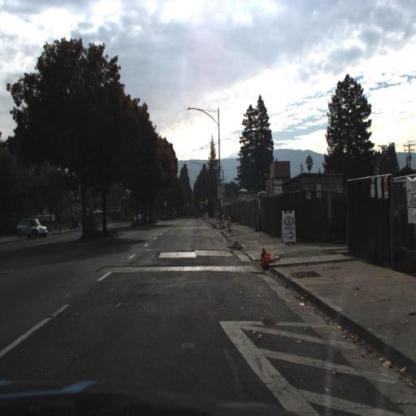car: (17, 219, 48, 240)
